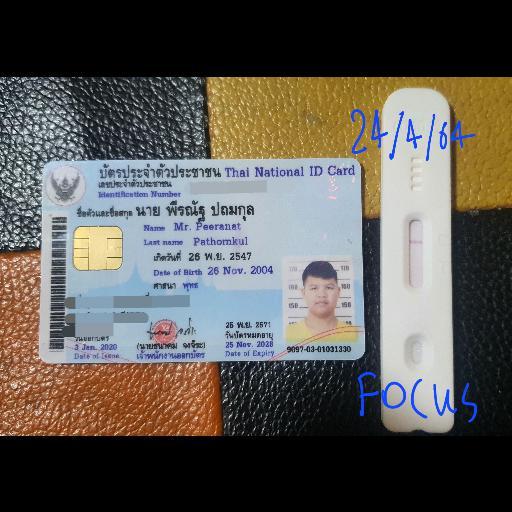Neg: (380, 88, 454, 428)
